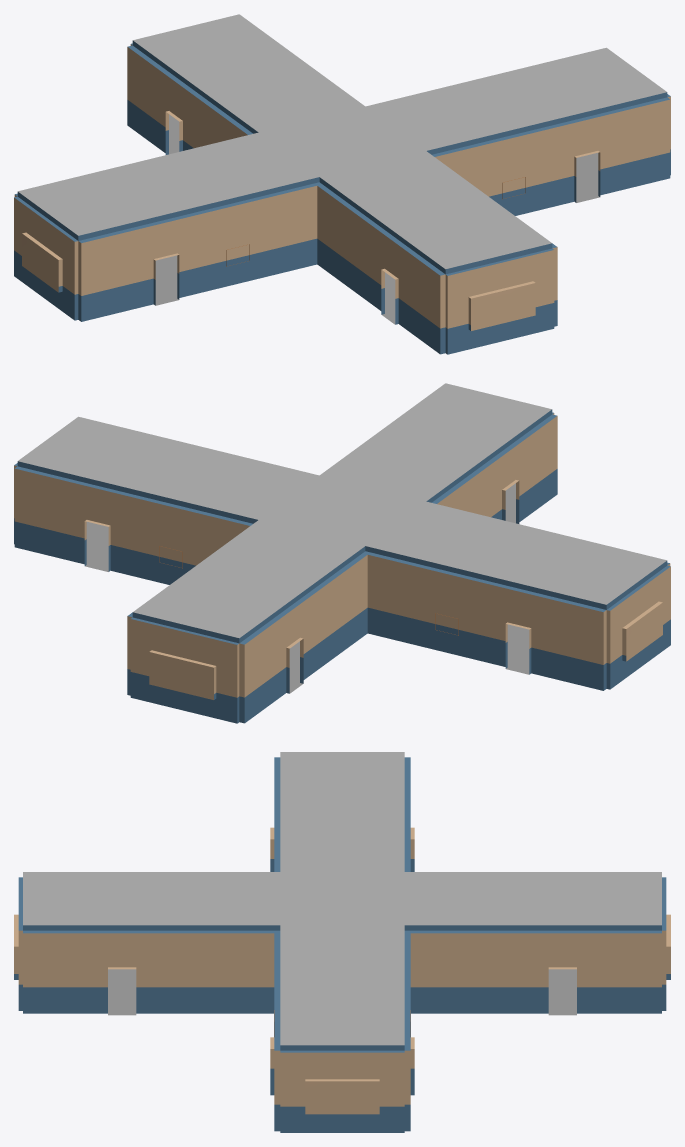
The model's file is Hall.fbx.
3 renders of one model, top to bottom at view 1: azimuth 30°, elevation 25°; view 2: azimuth 150°, elevation 25°; view 3: azimuth 270°, elevation 25°, orthographic. The views are drawn at different scales.
Visible parts, largest first — view 1: Hall; view 2: Hall; view 3: Hall.
Part boxes in pixels (x1,y1,x2,y2): Hall: [14, 14, 670, 354]; Hall: [14, 383, 670, 723]; Hall: [14, 752, 670, 1132].
Bounding box in the file's own units: 2958 × 392 × 2727.
